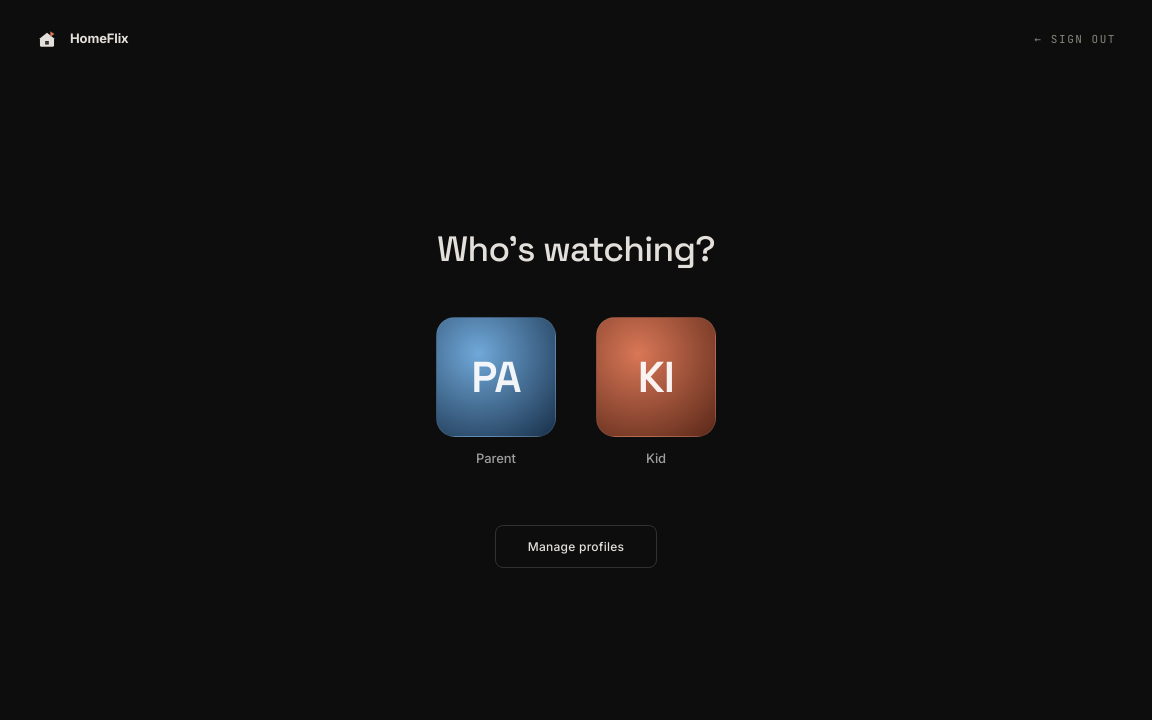
Test case: Profiles — switch behind the parental PIN › does not retry when the challenge is cancelled, and stays on the picker
This screenshot has width=1152, height=720.
Click the button with aria-label "Sign in as Parent". click: (496, 393)
box: top-left (436, 317), bottom-right (556, 469)
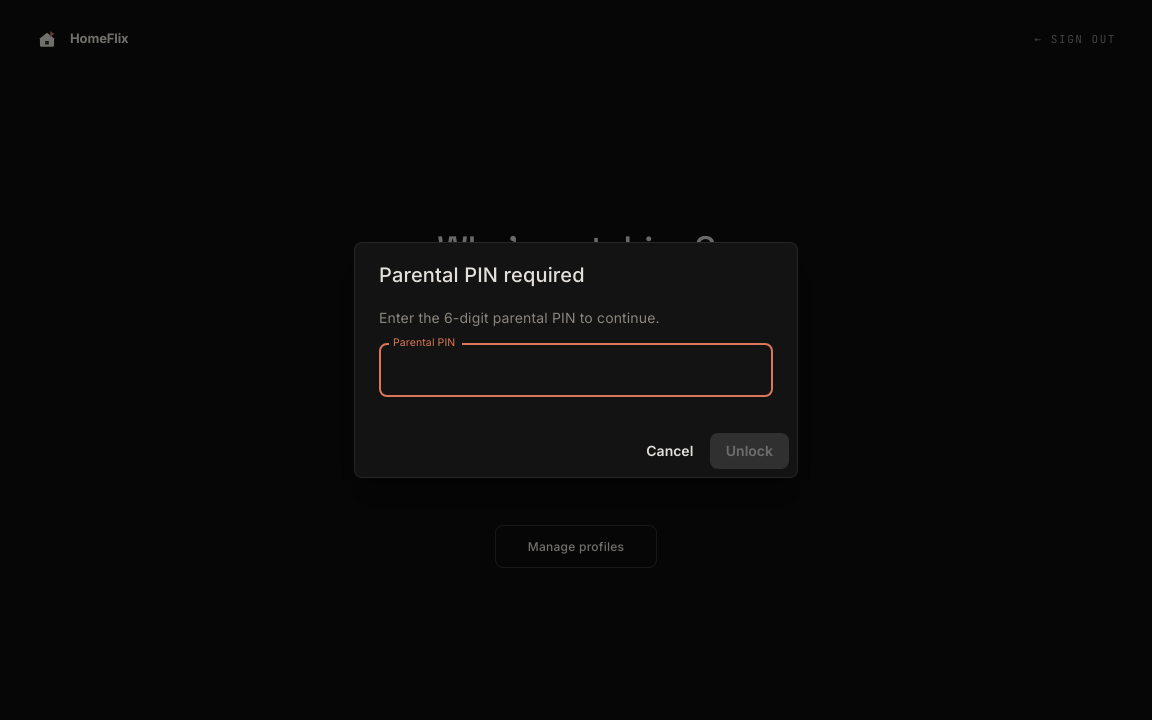
Click the button "Cancel". click: (670, 451)
box: top-left (638, 433), bottom-right (702, 469)
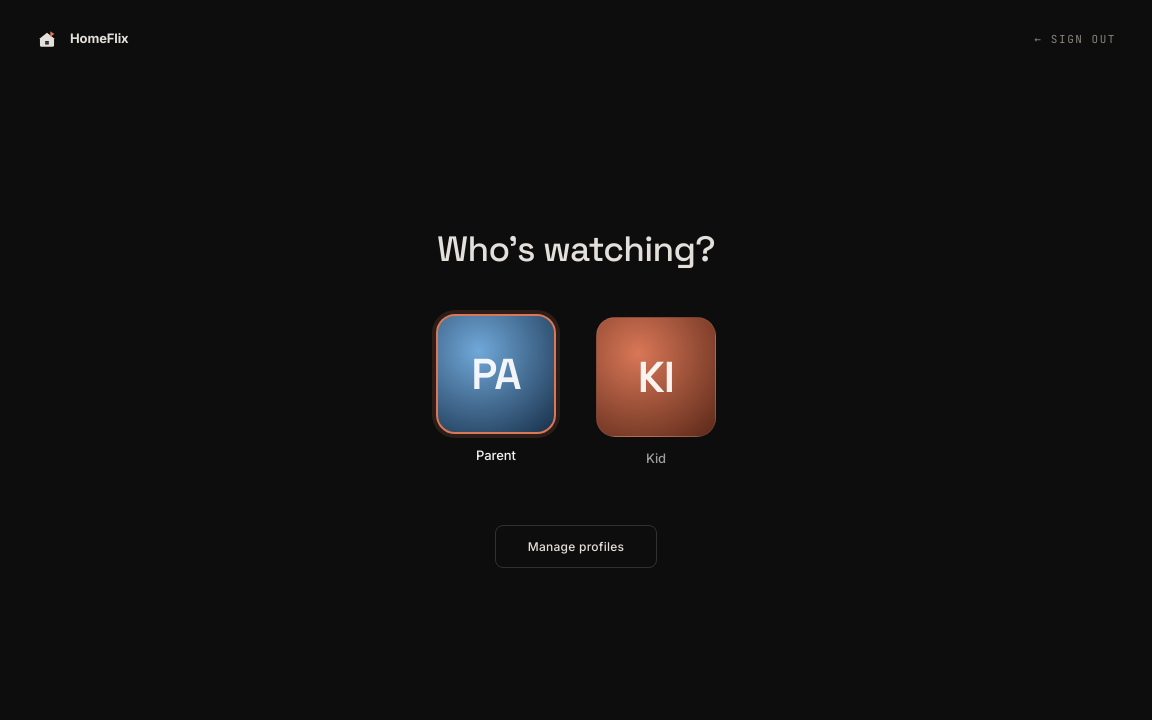
Expected: the button with aria-label "Sign in as Parent" is shown, top-left (436, 314), bottom-right (556, 466)
Expected: the heading "Parental PIN required" is gone
